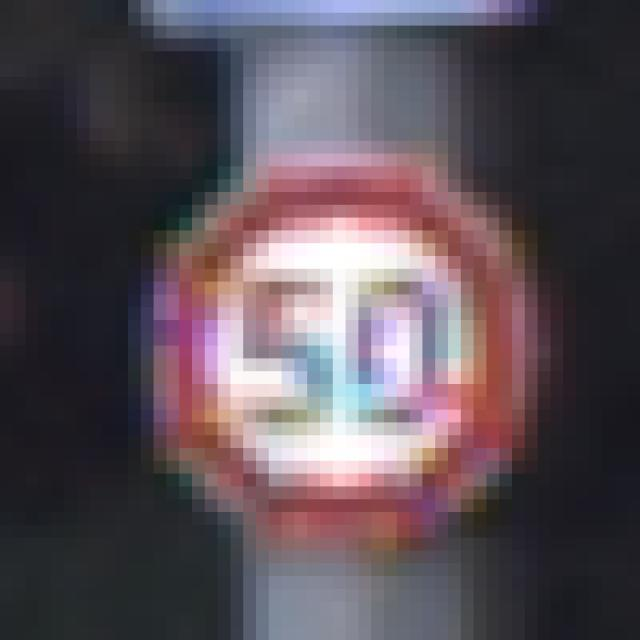Limite-50: (146, 146, 545, 555)
